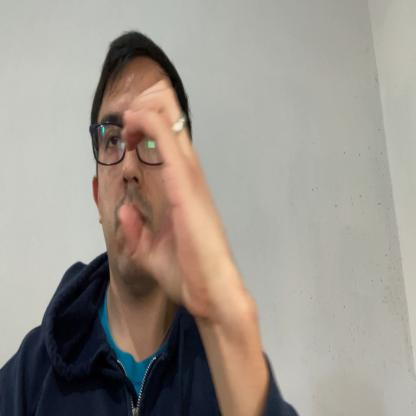C: (118, 78, 235, 319)
